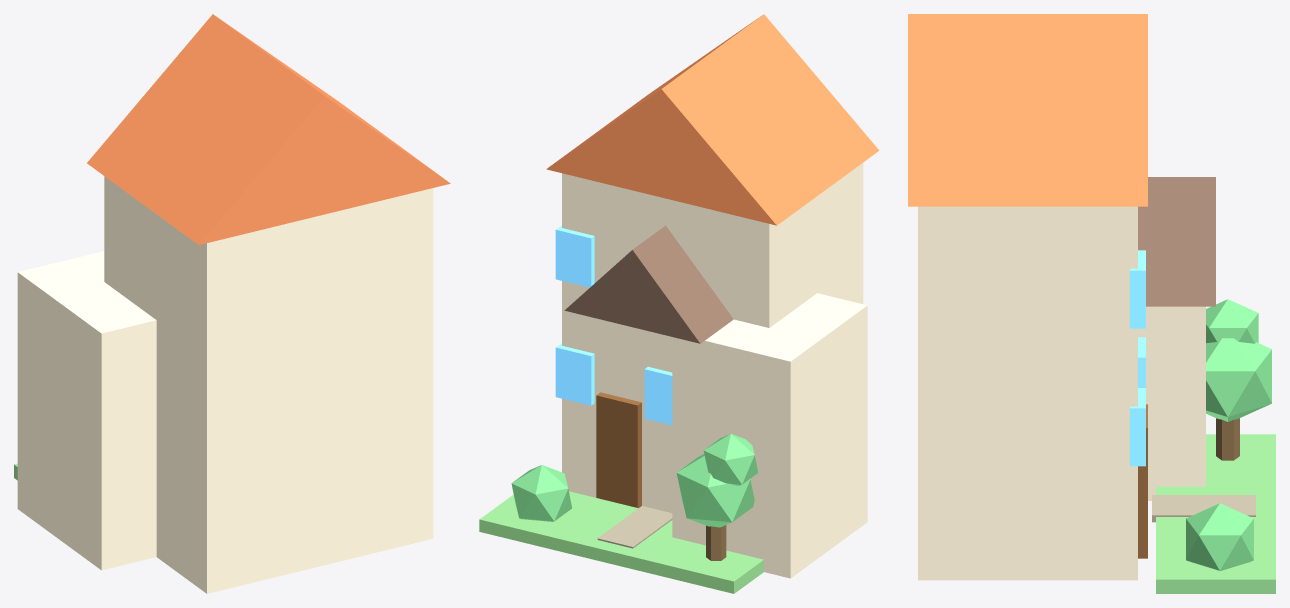
The model's file is res_suburb_3.glb.
3 views of the same model, side by side, from view 1: azimuth 30°, elevation 25°; view 2: azimuth 150°, elevation 25°; view 3: azimuth 270°, elevation 25° (orthographic). The views are drawn at different scales.
Visible parts, largest first — view 1: res_suburb_3; view 2: res_suburb_3; view 3: res_suburb_3.
Boxes of the visible parts, box(x1,y1,x2,y2) form: res_suburb_3: box(14, 14, 450, 593); res_suburb_3: box(479, 14, 879, 593); res_suburb_3: box(908, 14, 1275, 593).
Bounding box in the file's own units: 0.95 × 1.41 × 0.92.
